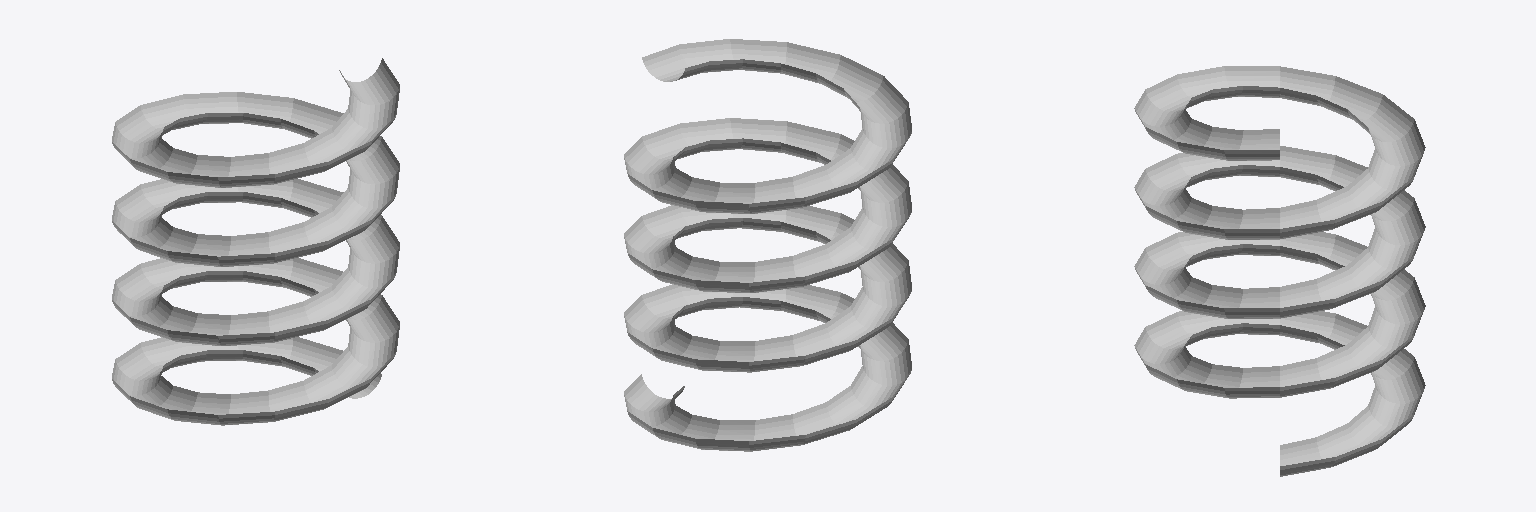
File: espiral2.obj
The picture shows the model from 3 angles: view 1: azimuth 30°, elevation 25°; view 2: azimuth 150°, elevation 25°; view 3: azimuth 270°, elevation 25°; orthographic projection.
Parts seen in each view (by area): view 1: Círculo; view 2: Círculo; view 3: Círculo.
Part boxes in pixels (left/top/right/bottom): Círculo: left=112, top=58, right=399, bottom=425; Círculo: left=624, top=39, right=911, bottom=451; Círculo: left=1134, top=66, right=1425, bottom=476.
Bounding box in the file's own units: 11.35 × 14.4 × 11.35.